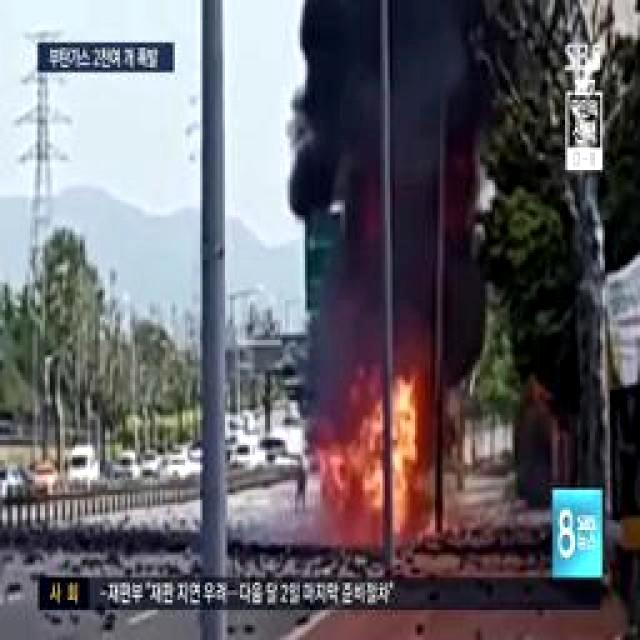fire: (336, 403, 436, 549)
